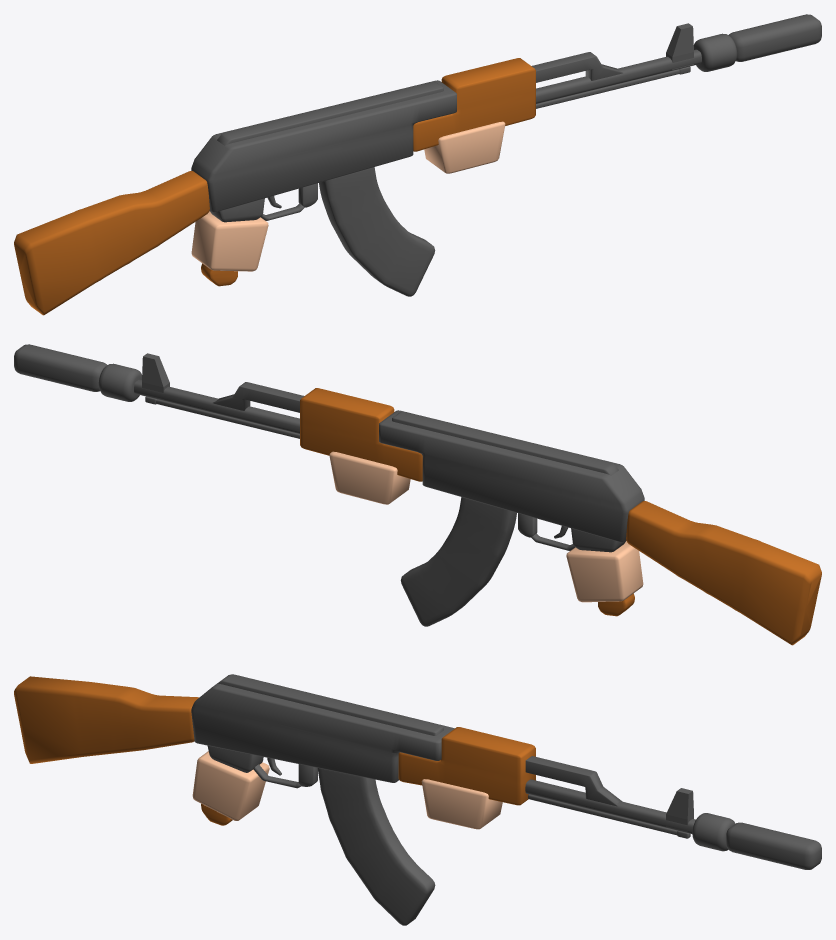
3 renders of one model, top to bottom at view 1: azimuth 30°, elevation 25°; view 2: azimuth 150°, elevation 25°; view 3: azimuth 330°, elevation 25°, orthographic.
Parts seen in each view (by area): view 1: Cube.019, Cube.021, Cube.026, Cube.018, Cube.029, Cube.020, Cube.012, Cube.028, Cube.013, Cube.017, Cube.022, Cylinder (+2 smaller); view 2: Cube.019, Cube.021, Cube.026, Cube.018, Cube.029, Cube.028, Cube.020, Cube.012, Cube.013, Cube.017, Cylinder, Cube.022 (+2 smaller); view 3: Cube.019, Cube.021, Cube.026, Cube.018, Cube.029, Cube.012, Cube.020, Cube.028, Cube.013, Cube.017, Cylinder, Cube.022 (+2 smaller).
Boxes of the visible parts, x1,y1,x2,y2 form: Cube.019: [191, 80, 456, 212]; Cube.021: [14, 171, 209, 315]; Cube.026: [319, 167, 435, 296]; Cube.018: [413, 58, 535, 151]; Cube.029: [191, 211, 268, 271]; Cube.020: [217, 82, 443, 145]; Cube.012: [728, 14, 821, 61]; Cube.028: [424, 121, 505, 173]; Cube.013: [536, 49, 701, 103]; Cube.017: [531, 52, 622, 82]; Cube.022: [201, 198, 264, 286]; Cylinder: [694, 33, 737, 71]; Cube.019: [379, 410, 644, 542]; Cube.021: [626, 501, 821, 645]; Cube.026: [400, 497, 516, 626]; Cube.018: [300, 388, 422, 481]; Cube.029: [566, 541, 643, 602]; Cube.028: [329, 451, 410, 504]; Cube.020: [392, 412, 618, 475]; Cube.012: [14, 344, 107, 391]; Cube.013: [134, 379, 299, 433]; Cube.017: [213, 382, 304, 412]; Cylinder: [98, 363, 141, 401]; Cube.022: [571, 528, 634, 616]; Cube.019: [191, 674, 454, 782]; Cube.021: [14, 676, 199, 763]; Cube.026: [317, 768, 435, 925]; Cube.018: [398, 727, 535, 805]; Cube.029: [192, 751, 269, 820]; Cube.012: [726, 822, 821, 869]; Cube.020: [217, 674, 443, 735]; Cube.028: [421, 779, 502, 829]; Cube.013: [525, 779, 695, 833]; Cube.017: [525, 756, 622, 806]; Cylinder: [692, 813, 735, 851]; Cube.022: [201, 745, 263, 825].
Size of the model in its own units: 520 by 126 by 23.94.
